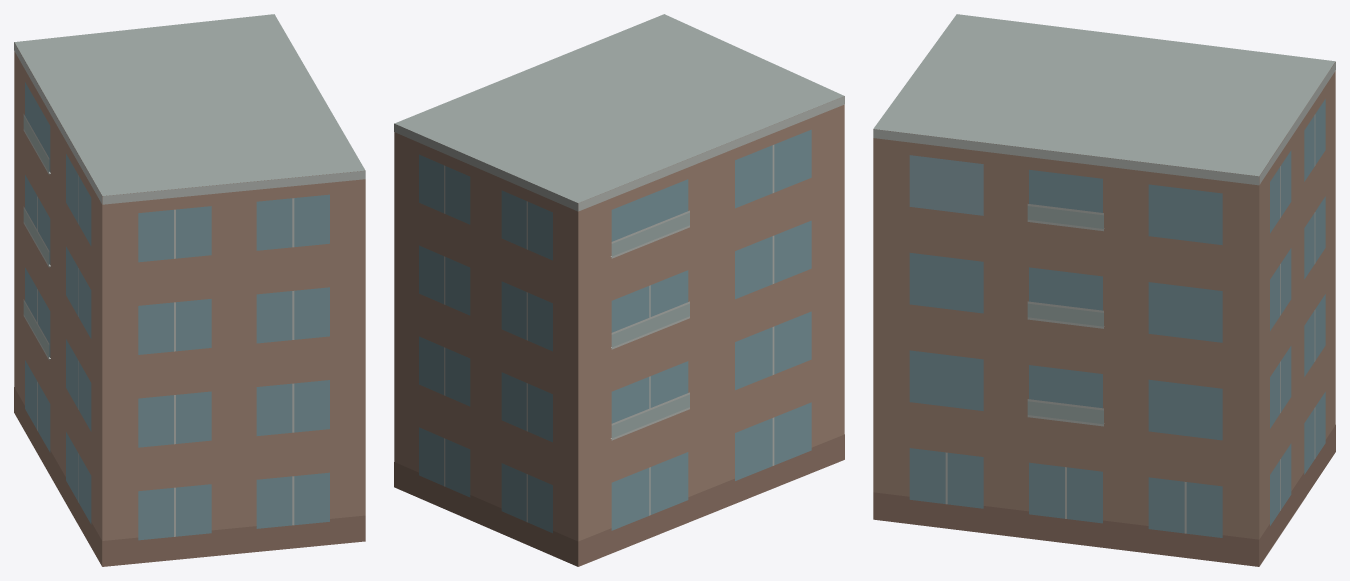
Rendered from survey-upis-32868445.glb.
3 views of the same model, side by side, from view 1: azimuth 30°, elevation 25°; view 2: azimuth 150°, elevation 25°; view 3: azimuth 270°, elevation 25° (orthographic). The views are drawn at different scales.
Visible parts, largest first — view 1: survey-upis-32868445.tmp; view 2: survey-upis-32868445.tmp; view 3: survey-upis-32868445.tmp.
Part boxes in pixels (x1,y1,x2,y2): survey-upis-32868445.tmp: (14,14,365,566); survey-upis-32868445.tmp: (394,14,844,566); survey-upis-32868445.tmp: (873,14,1335,566).
Bounding box in the file's own units: 9.37 × 10.5 × 11.28.
